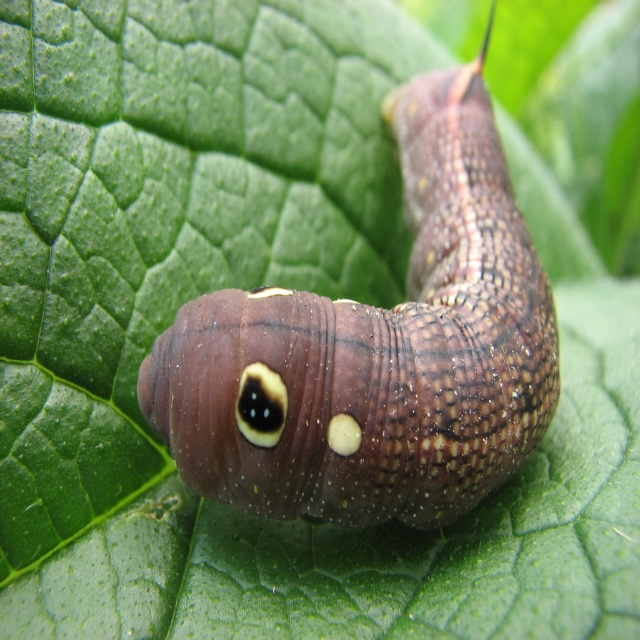Caterpillar: (137, 0, 560, 532)
